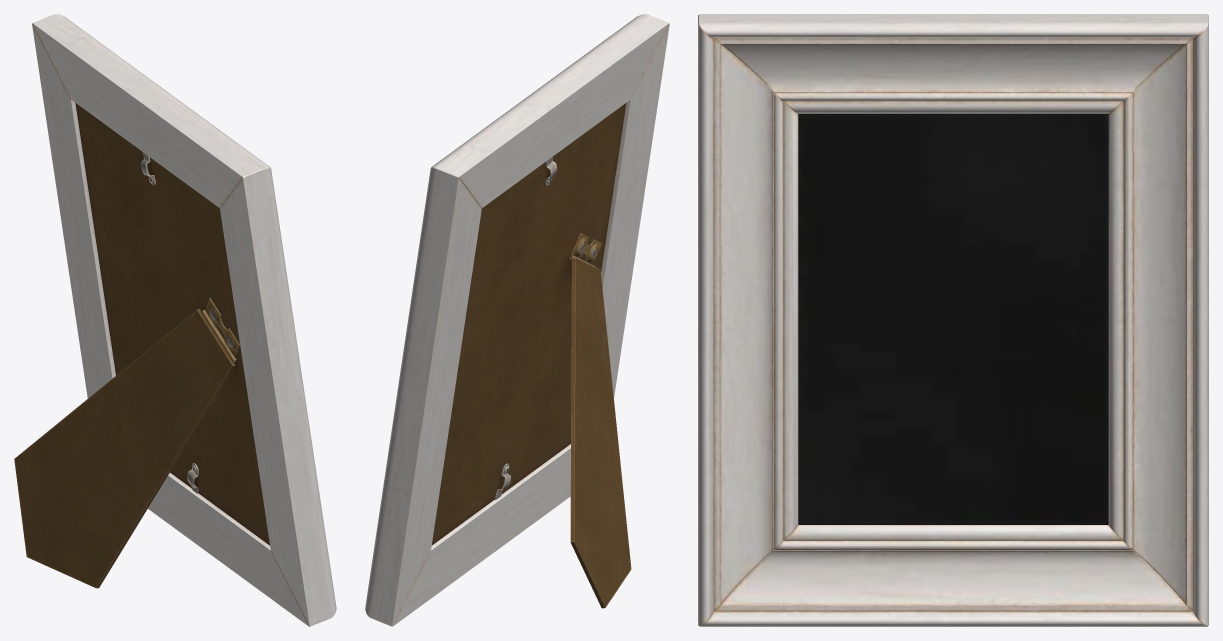
The model's file is standing_picture_frame_02.glb.
3 renders of one model, left to right at view 1: azimuth 30°, elevation 25°; view 2: azimuth 150°, elevation 25°; view 3: azimuth 270°, elevation 25°, orthographic. The views are drawn at different scales.
Parts seen in each view (by area): view 1: standing_picture_frame_02; view 2: standing_picture_frame_02; view 3: standing_picture_frame_02.
Boxes of the visible parts, box(x1,y1,x2,y2) form: standing_picture_frame_02: box(14, 14, 336, 626); standing_picture_frame_02: box(365, 14, 669, 626); standing_picture_frame_02: box(698, 14, 1208, 626).
Bounding box in the file's own units: 0.1023 × 0.2664 × 0.2169.
3 materials, 3 textured.
